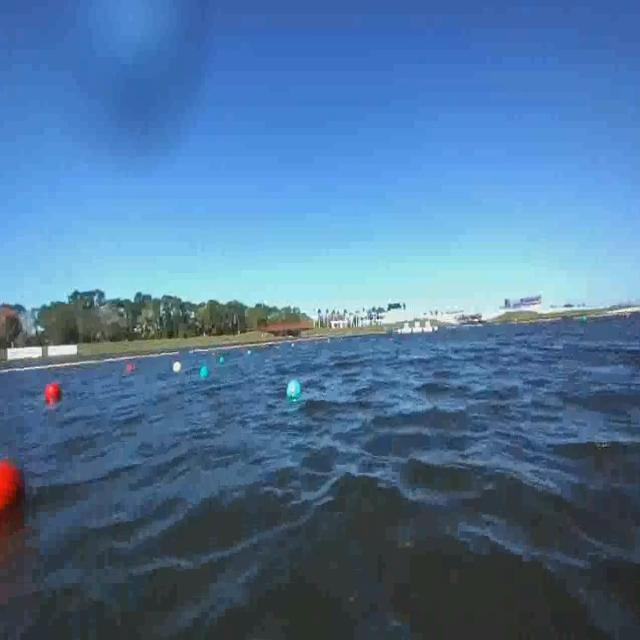green-buoy: (286, 378, 301, 399), (200, 364, 209, 377)
red-buoy: (0, 461, 24, 515), (47, 380, 65, 402), (124, 358, 136, 374)
yellow-buoy: (171, 355, 184, 379)
